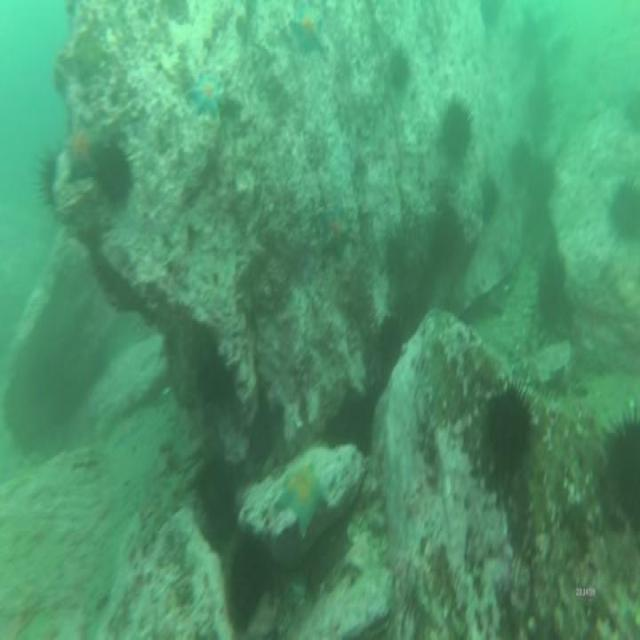echinus: (477, 371, 537, 482), (595, 401, 640, 535), (227, 538, 271, 630), (196, 446, 234, 534), (95, 136, 137, 207), (191, 332, 229, 408), (533, 251, 570, 329), (440, 92, 475, 164), (607, 176, 640, 252), (428, 202, 460, 277), (246, 398, 275, 466), (32, 140, 59, 212), (505, 128, 534, 193), (378, 308, 402, 370)
starfish: (279, 463, 327, 544), (289, 3, 329, 62), (62, 126, 102, 184), (188, 70, 225, 122), (319, 201, 353, 256)
